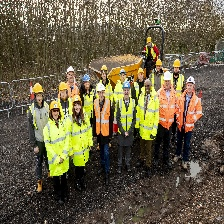helmet: (32, 83, 45, 95), (58, 79, 68, 93), (95, 81, 106, 93), (49, 101, 61, 112), (72, 93, 82, 105), (173, 57, 180, 70), (162, 72, 171, 82), (122, 80, 131, 90), (100, 64, 108, 74), (67, 66, 75, 76), (137, 67, 144, 77), (83, 74, 90, 84), (156, 59, 162, 69), (146, 37, 153, 44), (119, 68, 125, 76)
no-helmet: (144, 78, 152, 86)
person: (43, 98, 67, 195), (29, 80, 50, 188), (157, 71, 178, 169), (136, 79, 156, 180), (180, 75, 201, 167), (94, 84, 113, 184), (68, 96, 92, 173), (117, 79, 134, 174), (81, 72, 95, 126), (170, 58, 182, 96), (100, 63, 112, 101), (153, 58, 164, 90), (66, 64, 76, 99), (144, 35, 156, 64), (58, 80, 68, 111), (136, 68, 144, 94), (117, 69, 126, 92), (147, 37, 151, 45), (191, 122, 193, 125)
vest: (45, 117, 67, 173), (138, 87, 157, 141), (182, 87, 199, 141), (158, 85, 176, 134), (70, 115, 88, 164), (95, 98, 111, 141), (119, 96, 134, 141)
